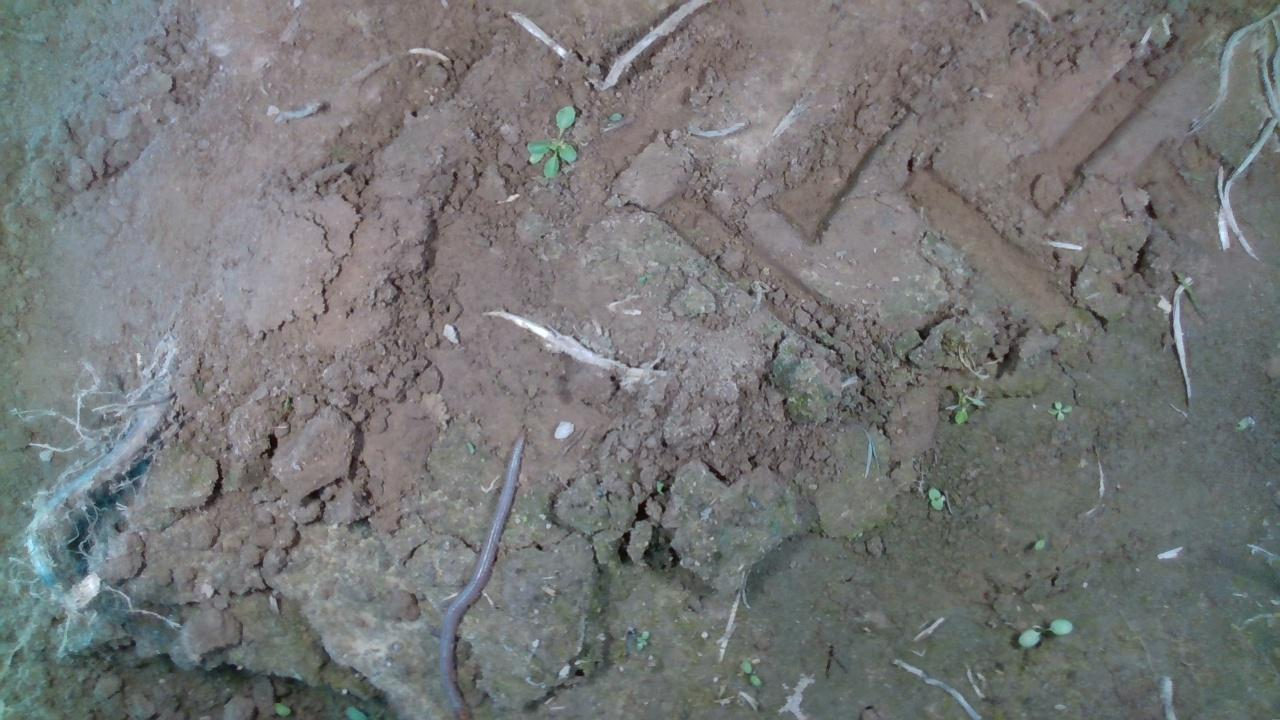weed: (1016, 617, 1073, 648), (738, 660, 761, 688), (1045, 399, 1072, 421), (925, 485, 943, 512), (633, 629, 648, 651)
